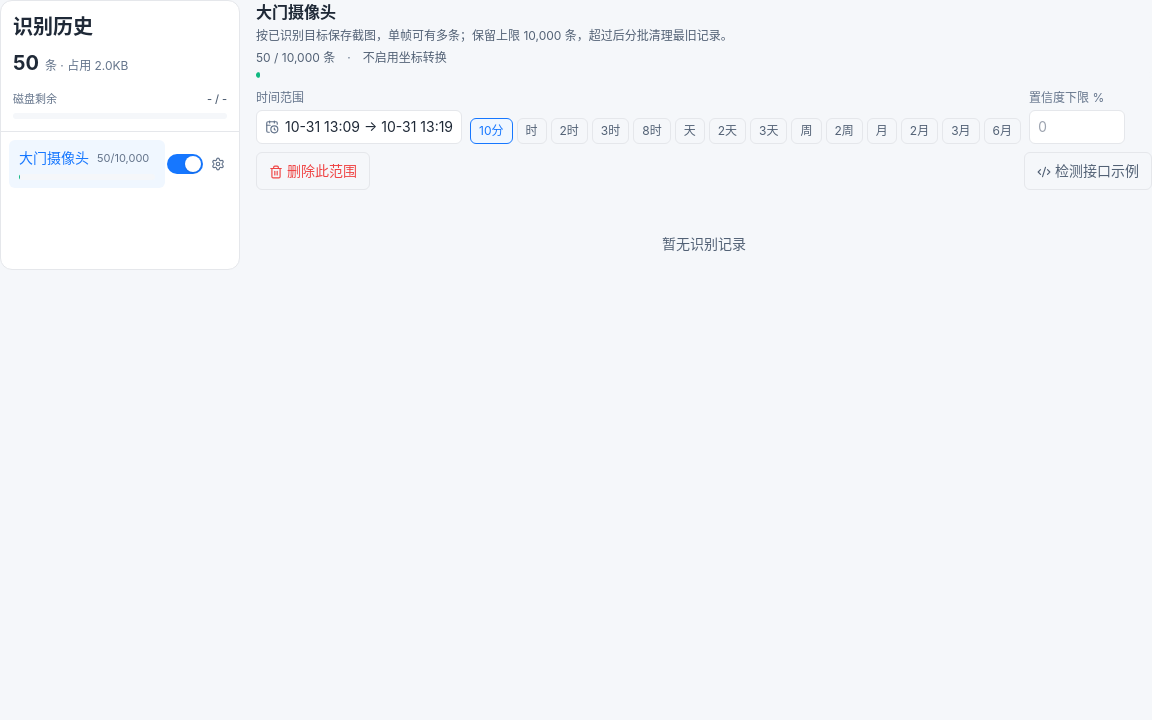
RecognitionHistoryPage —— 时间范围弹窗（统一走"范围变化触发搜索"） › 点击触发器打开弹窗，改动草稿后点确定——应用新范围、清除预设选中态、重新搜索
Click the button with test id "range-trigger" at (359, 127), box x1=256 y1=110 x2=462 y2=144
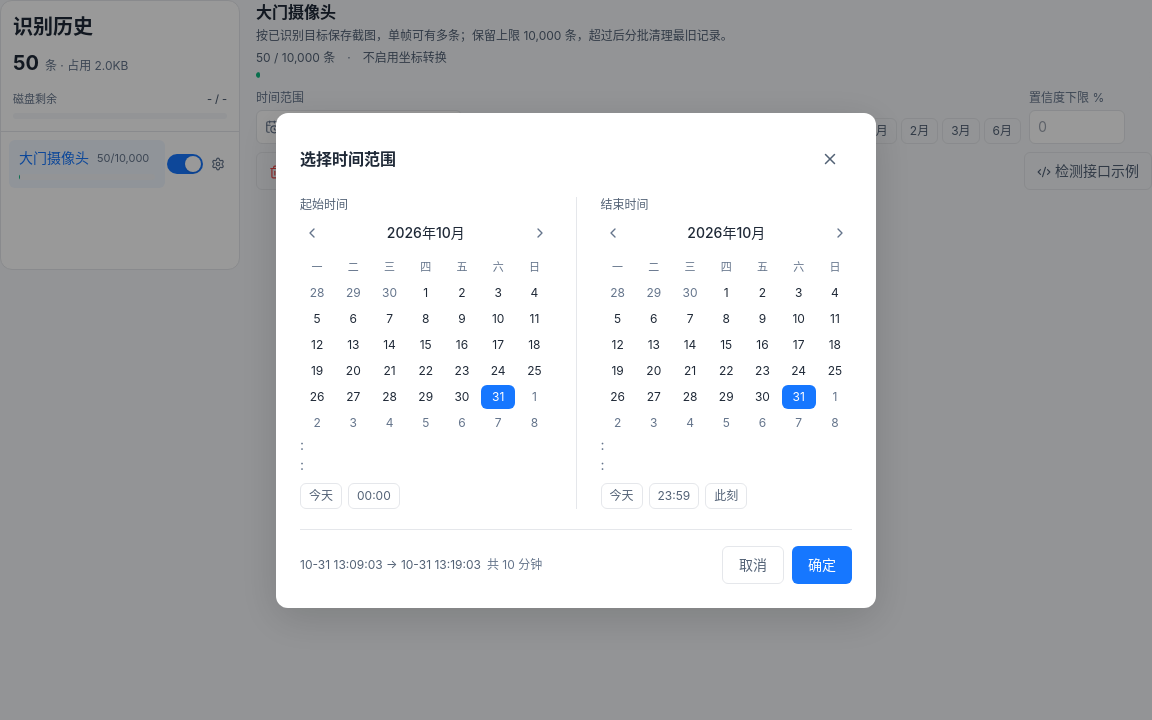
Click the button "00:00" at (374, 496), box x1=348 y1=482 x2=400 y2=508
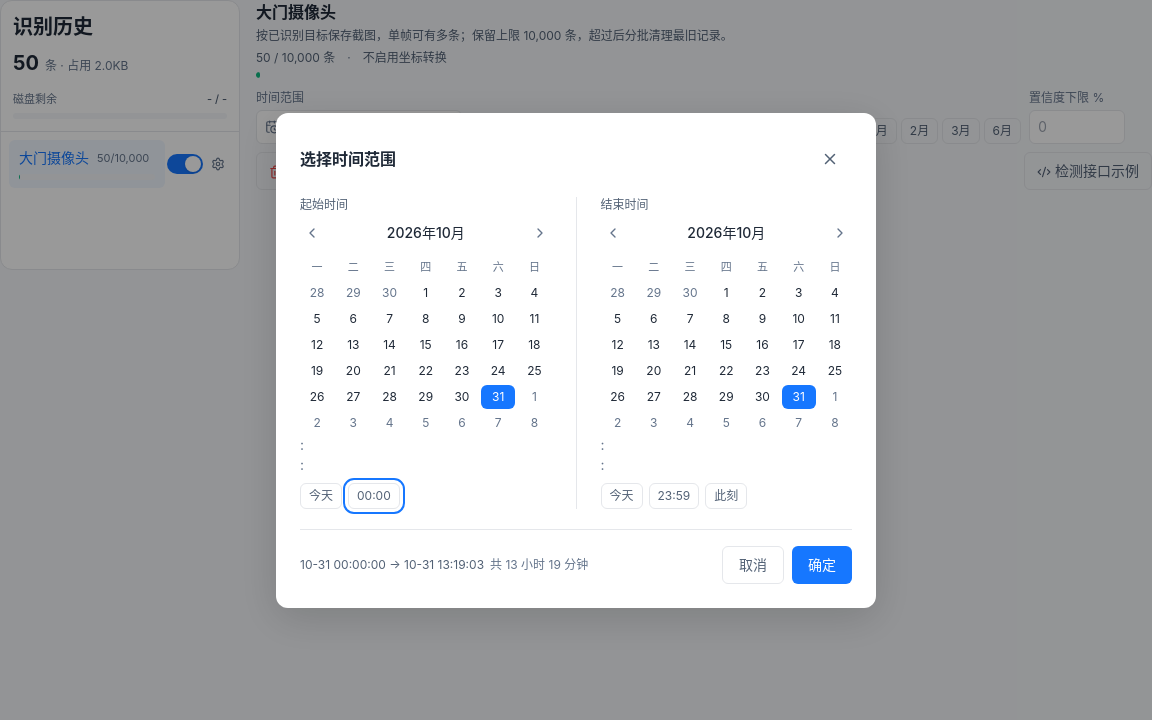
Click the button with test id "range-picker-confirm" at (822, 564), box x1=792 y1=546 x2=852 y2=584
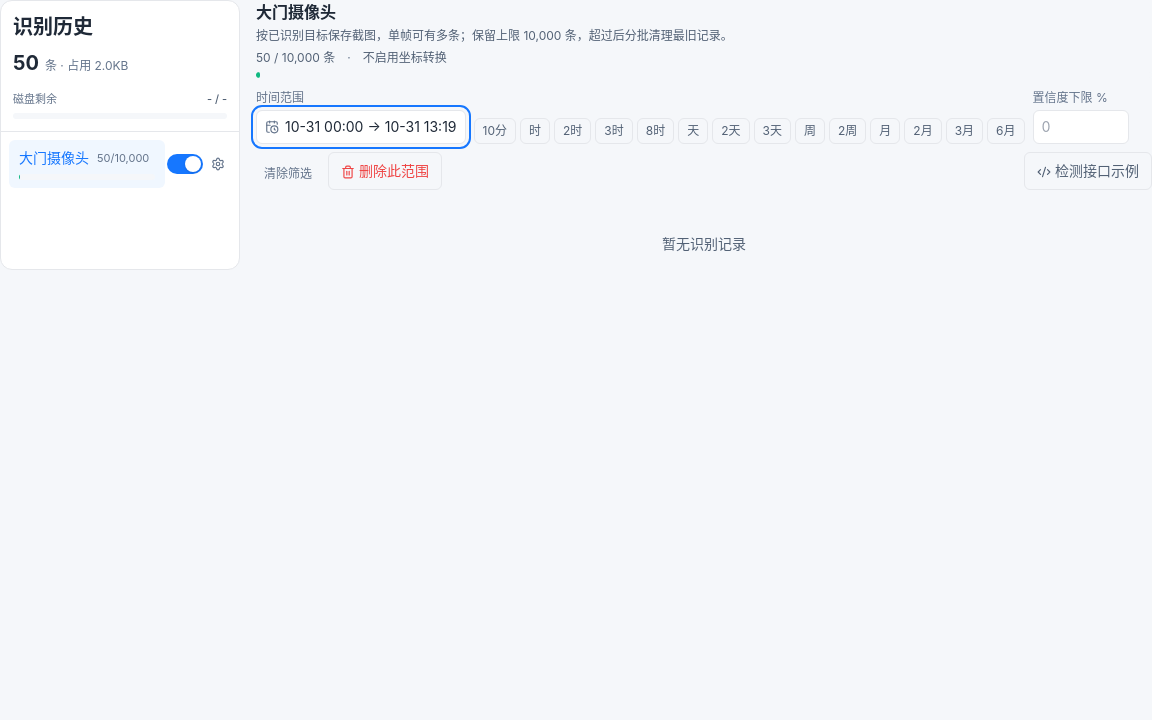
Expected: the dialog is gone
